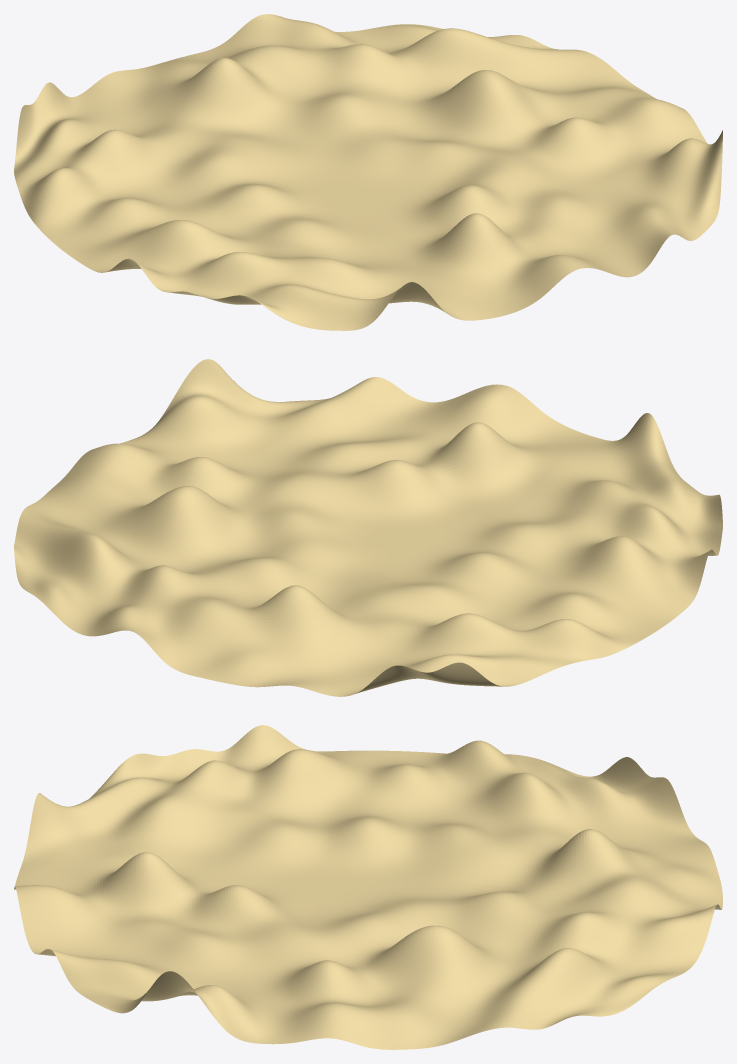
The model's file is Sand Dunes.glb.
3 views of the same model, one above another, from view 1: azimuth 30°, elevation 25°; view 2: azimuth 150°, elevation 25°; view 3: azimuth 270°, elevation 25° (orthographic). The views are drawn at different scales.
Parts seen in each view (by area): view 1: Plane; view 2: Plane; view 3: Plane.
Boxes of the visible parts, x1,y1,x2,y2 form: Plane: [14, 14, 722, 330]; Plane: [14, 359, 722, 696]; Plane: [14, 725, 722, 1049].
Size of the model in its own units: 91.54 by 8.22 by 91.54.
